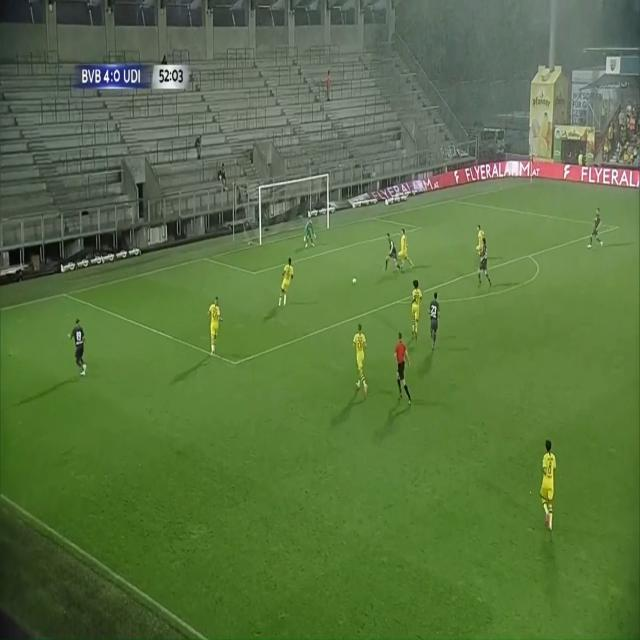ball: (351, 270, 359, 288)
goalkeeper: (300, 214, 321, 255)
player: (535, 434, 562, 534), (68, 313, 100, 381), (351, 321, 375, 398), (276, 253, 298, 311), (205, 290, 224, 357), (428, 283, 444, 356), (382, 230, 406, 276), (589, 201, 609, 256), (412, 274, 425, 347), (396, 227, 416, 272), (479, 235, 493, 295), (476, 222, 486, 264)
referee: (389, 330, 415, 406)
